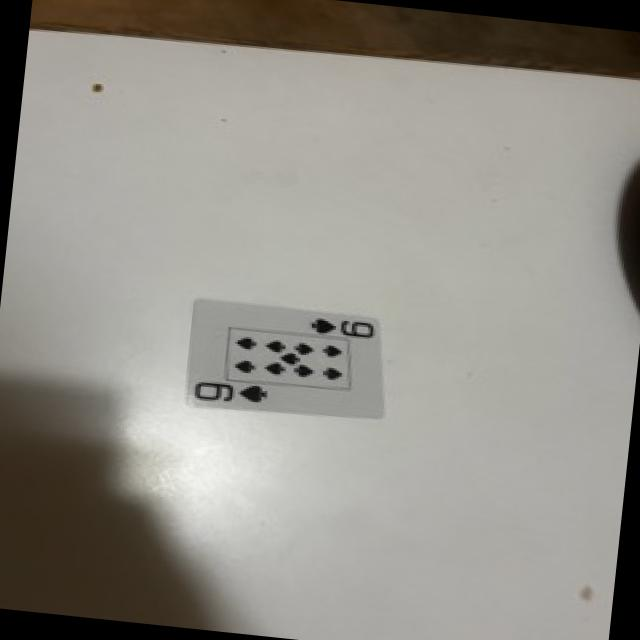9 of spades: (187, 300, 382, 417)
